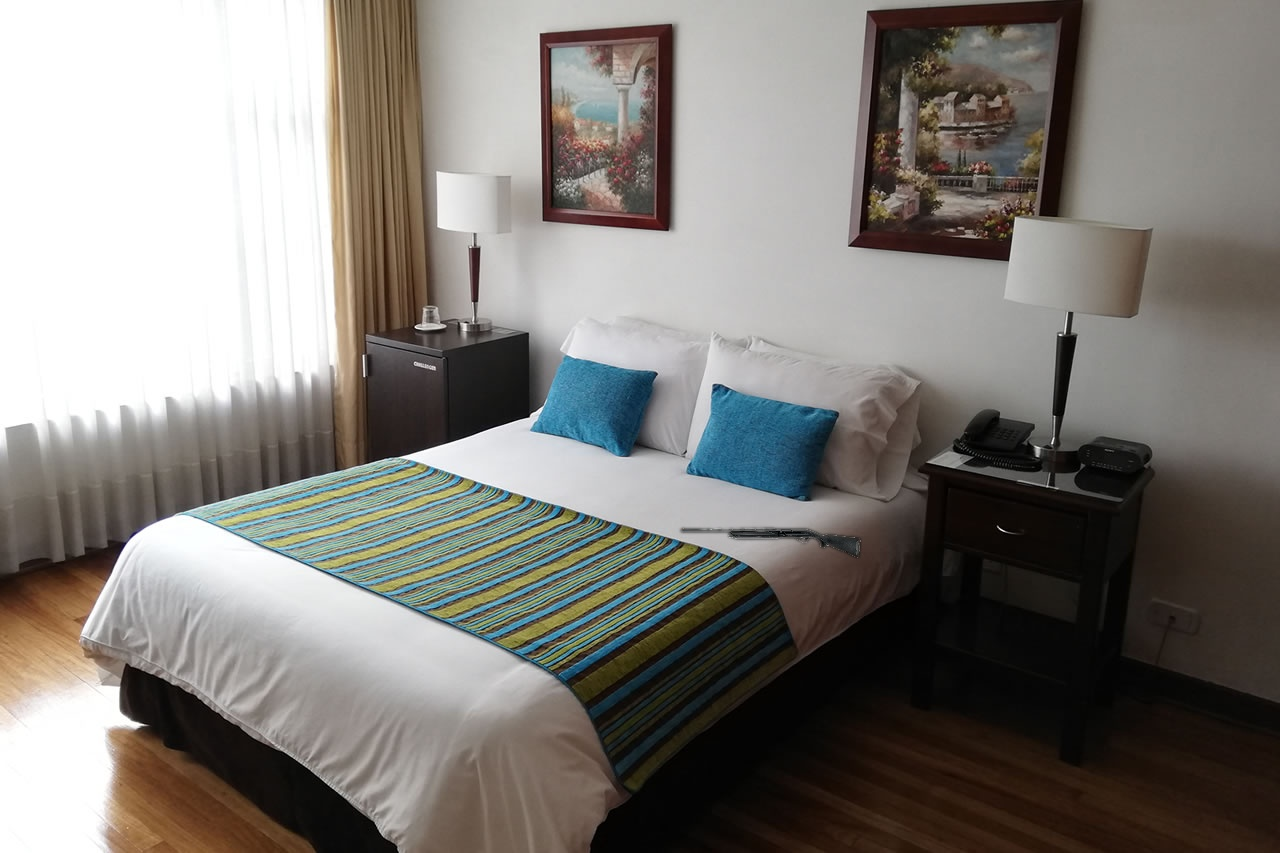escopeta.png: (677, 526, 862, 566)
